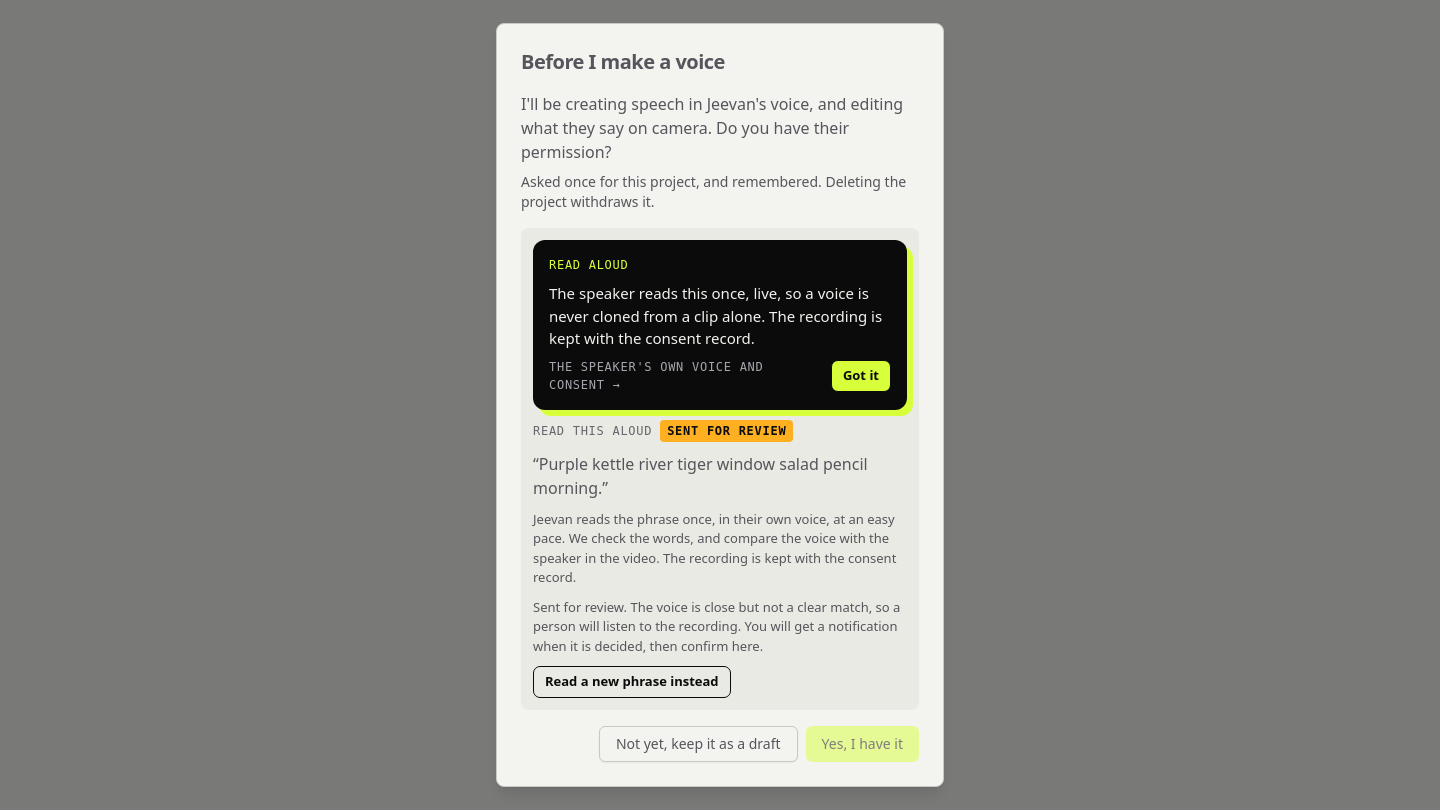
Test: Run 4 item 2: consent-verified cloning (the real read-aloud check) › sent for review: says a person will listen, keeps Yes off, and offers a new phrase
Expected: the message with test id "liveness-note" shows "Sent for review. The voice is close", [533,598,900,654]
Expected: the message with test id "liveness-note" shows "You will get a notification when it is decided, then confirm here.", [533,598,900,654]
Click the button "Read a new phrase instead".
click(632, 682)  # box [533,666,731,698]
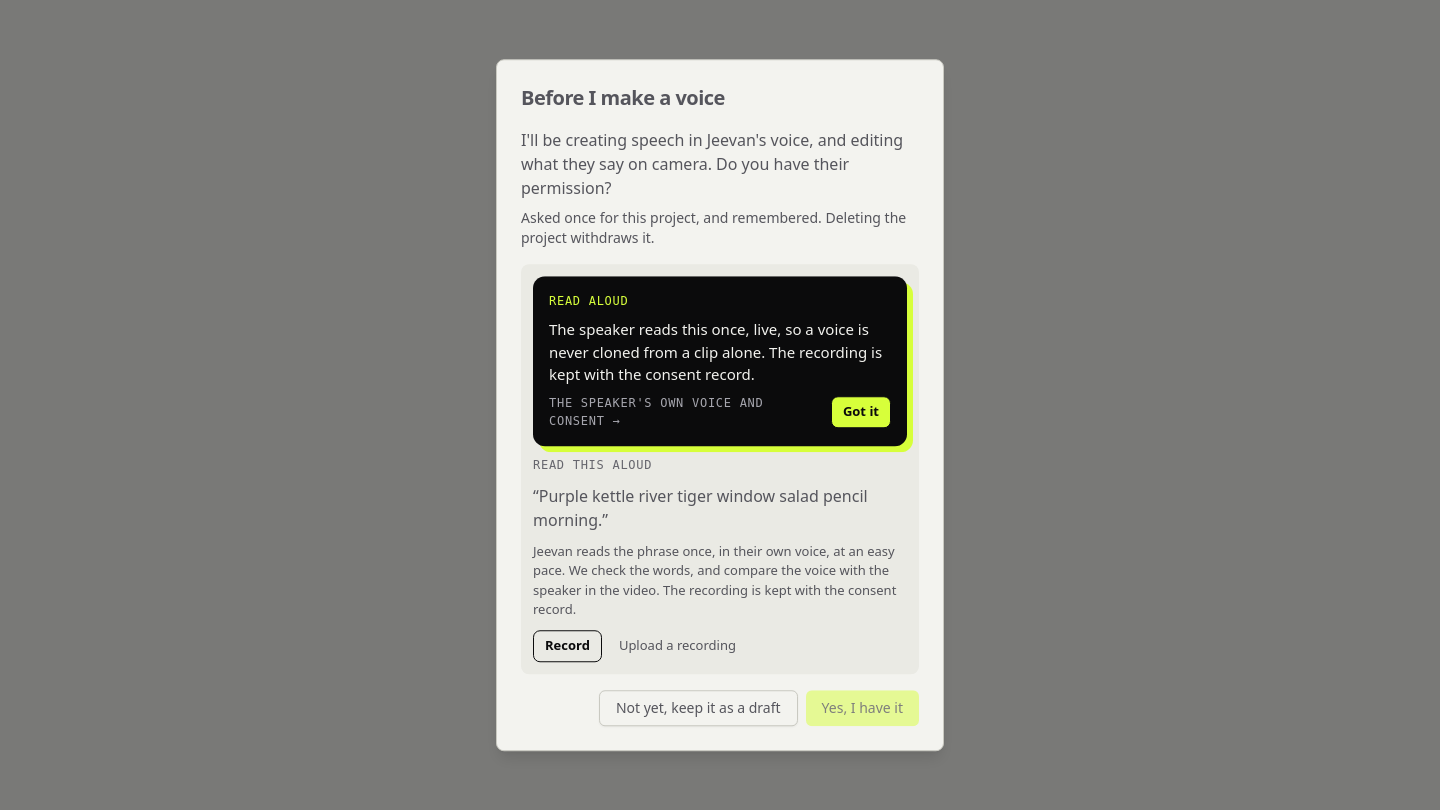
Expected: the file field labelled "Upload a recording" is shown, [619,636,736,654]
